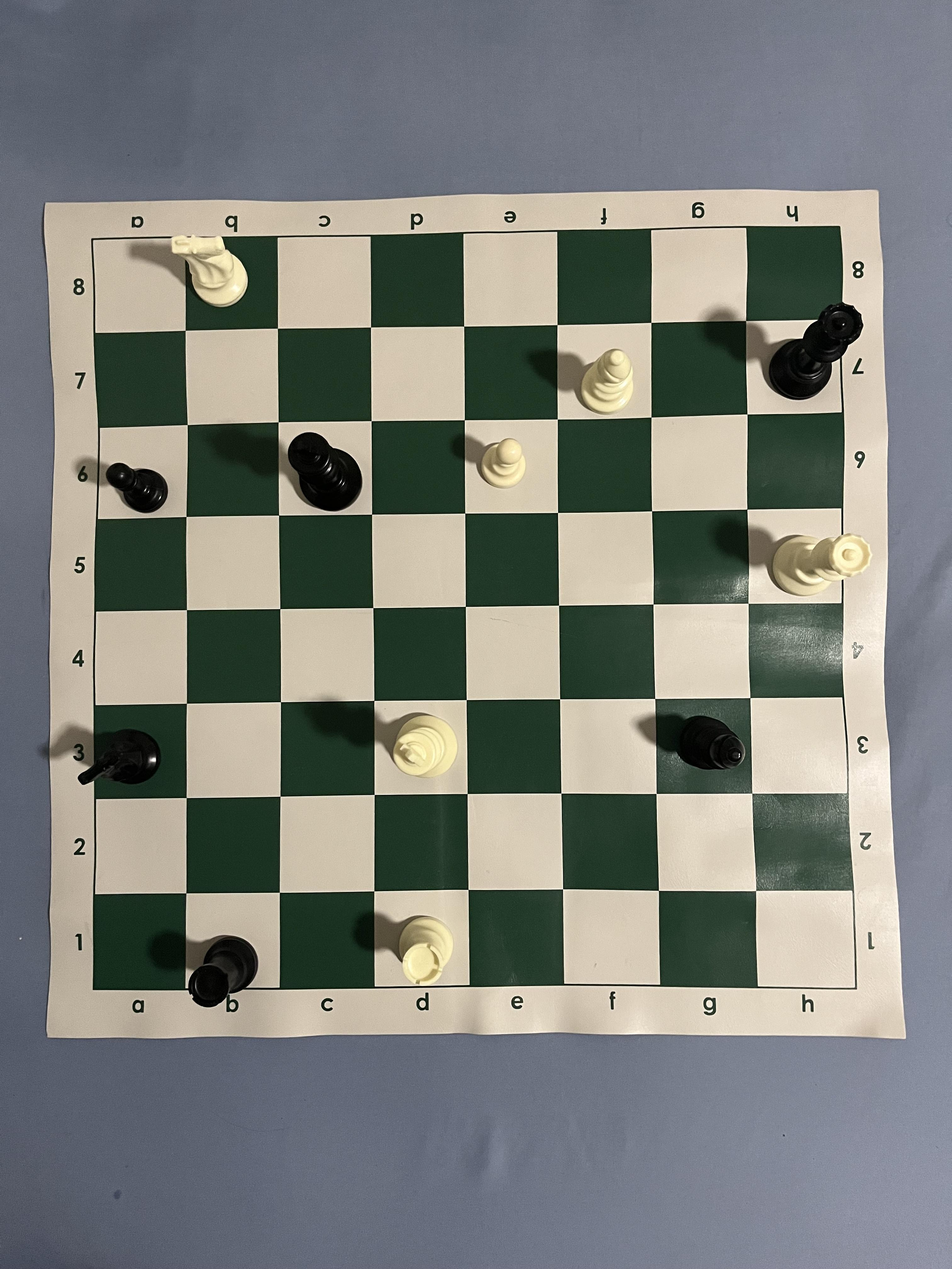black_bishop: (678, 715, 747, 771)
black_king: (287, 431, 363, 512)
black_knight: (77, 728, 162, 786)
black_pawn: (105, 462, 169, 514)
black_queen: (768, 302, 863, 400)
black_rook: (188, 936, 258, 1007)
white_bishop: (580, 348, 634, 415)
white_king: (391, 713, 459, 778)
white_knight: (170, 234, 248, 308)
white_pawn: (480, 438, 527, 489)
white_queen: (771, 532, 871, 597)
white_rook: (398, 914, 454, 986)
